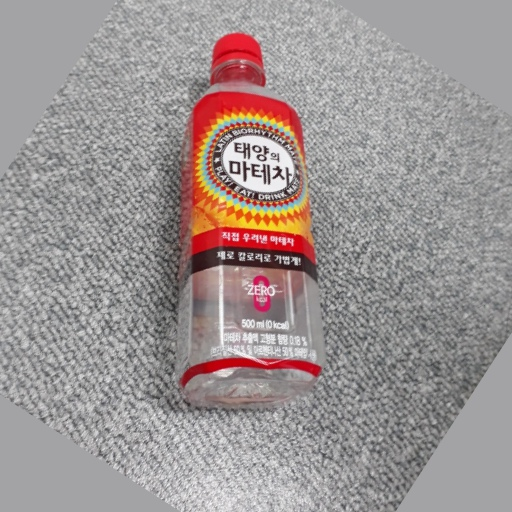Plastic_0: (177, 32, 326, 406)
